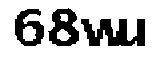6: (10, 5, 46, 50)
8: (48, 7, 80, 50)
u: (122, 15, 150, 57)
w: (79, 16, 121, 50)
